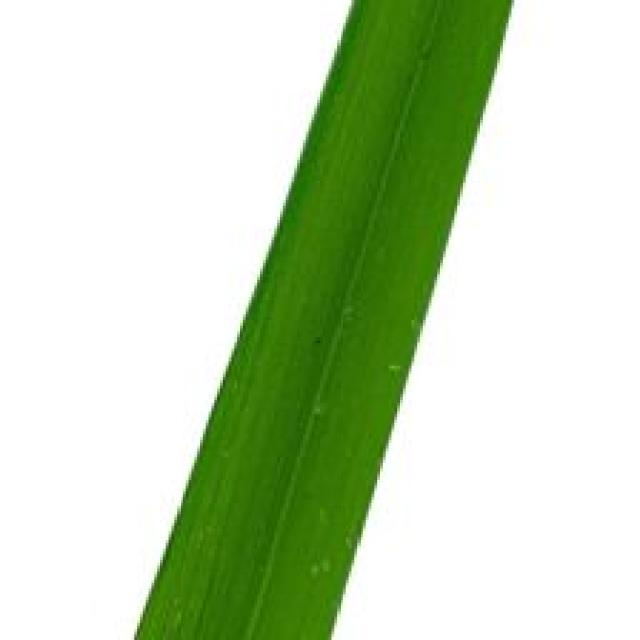Rice___Healthy_Rice_Plant: (132, 0, 518, 637)
